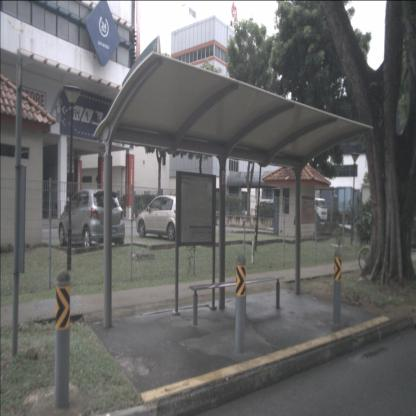vehicle-car: (58, 188, 126, 249), (136, 195, 192, 242), (256, 202, 274, 219)
vehicle-truck: (290, 189, 327, 228)
